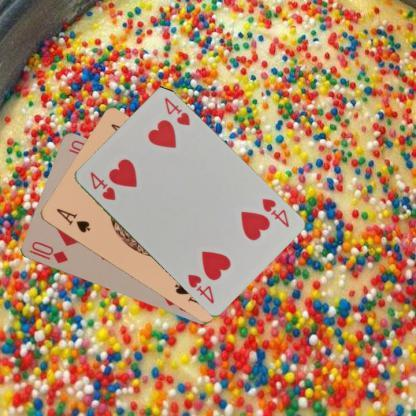10d: (25, 238, 69, 266)
4h: (259, 195, 290, 229), (87, 168, 116, 202)
As: (53, 206, 92, 235)
